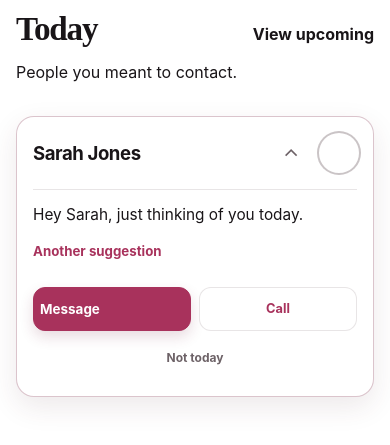
Test: V1-10 Today experience › opens WhatsApp directly with the prepared draft and no confirmation sheet
This screenshot has width=390, height=445.
What coordinates should you click on to do the following:
click the button "Message"
I would click on:
 (112, 309)
Its box is [33,287,191,331].
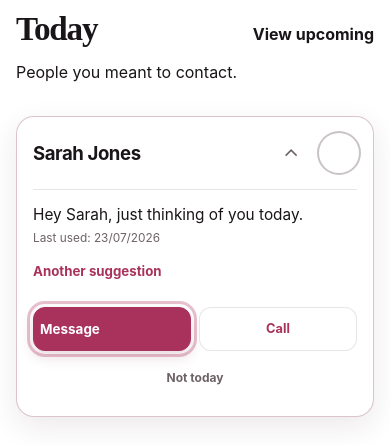
Expected: the text "Last used: 23/07/2026" is shown, [33,231,160,245]
